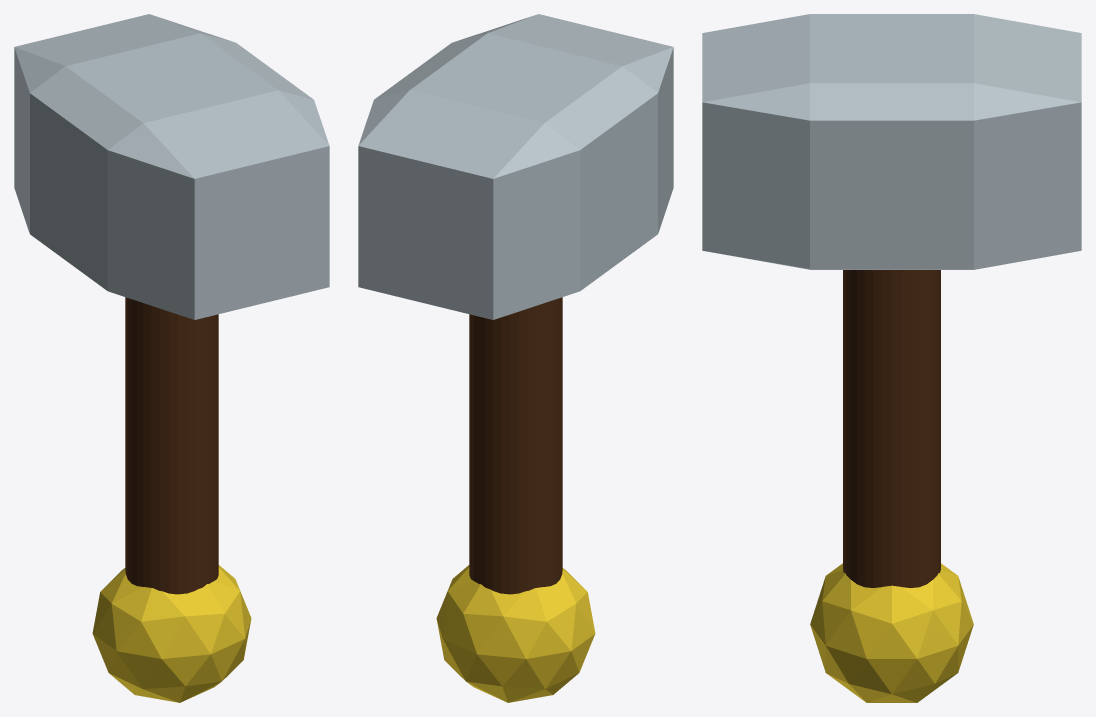
The model's file is NewHammer.fbx.
3 views of the same model, side by side, from view 1: azimuth 30°, elevation 25°; view 2: azimuth 150°, elevation 25°; view 3: azimuth 270°, elevation 25° (orthographic). The views are drawn at different scales.
Parts seen in each view (by area): view 1: Hammer, Handle, Icosphere; view 2: Hammer, Handle, Icosphere; view 3: Hammer, Handle, Icosphere.
Part boxes in pixels (box(x1,y1,x2,y2)): Hammer: box(14, 14, 329, 319); Handle: box(125, 297, 218, 594); Icosphere: box(92, 565, 251, 702); Hammer: box(358, 14, 673, 319); Handle: box(469, 297, 562, 594); Icosphere: box(436, 565, 595, 702); Hammer: box(702, 14, 1081, 269); Handle: box(843, 270, 940, 587); Icosphere: box(810, 563, 973, 702).
Bounding box in the file's own units: 76.49 × 219 × 116.
